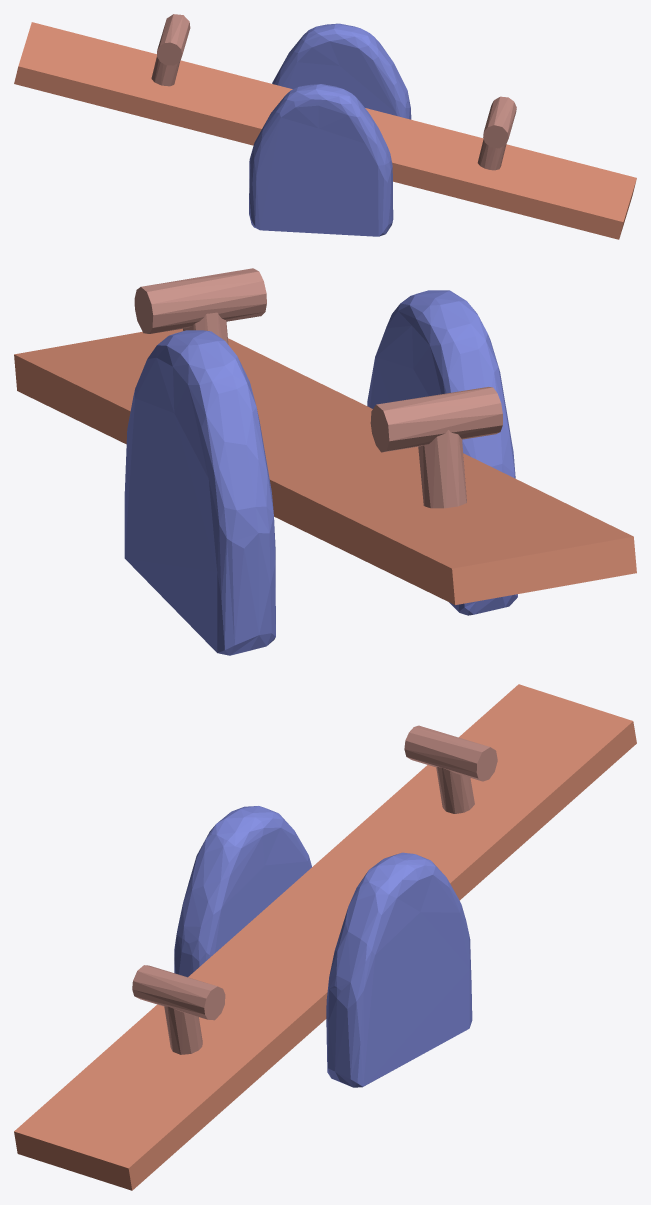
Rendered from qiao1_.glb.
3 renders of one model, top to bottom at view 1: azimuth 30°, elevation 25°; view 2: azimuth 150°, elevation 25°; view 3: azimuth 270°, elevation 25°, orthographic. The views are drawn at different scales.
Parts seen in each view (by area): view 1: Cylinder 1.003; view 2: Cylinder 1.003; view 3: Cylinder 1.003.
Boxes of the visible parts, x1,y1,x2,y2 form: Cylinder 1.003: (14,14,636,239); Cylinder 1.003: (14,268,636,655); Cylinder 1.003: (14,684,636,1190).
Size of the model in its own units: 2.51 by 0.8279 by 2.07.
